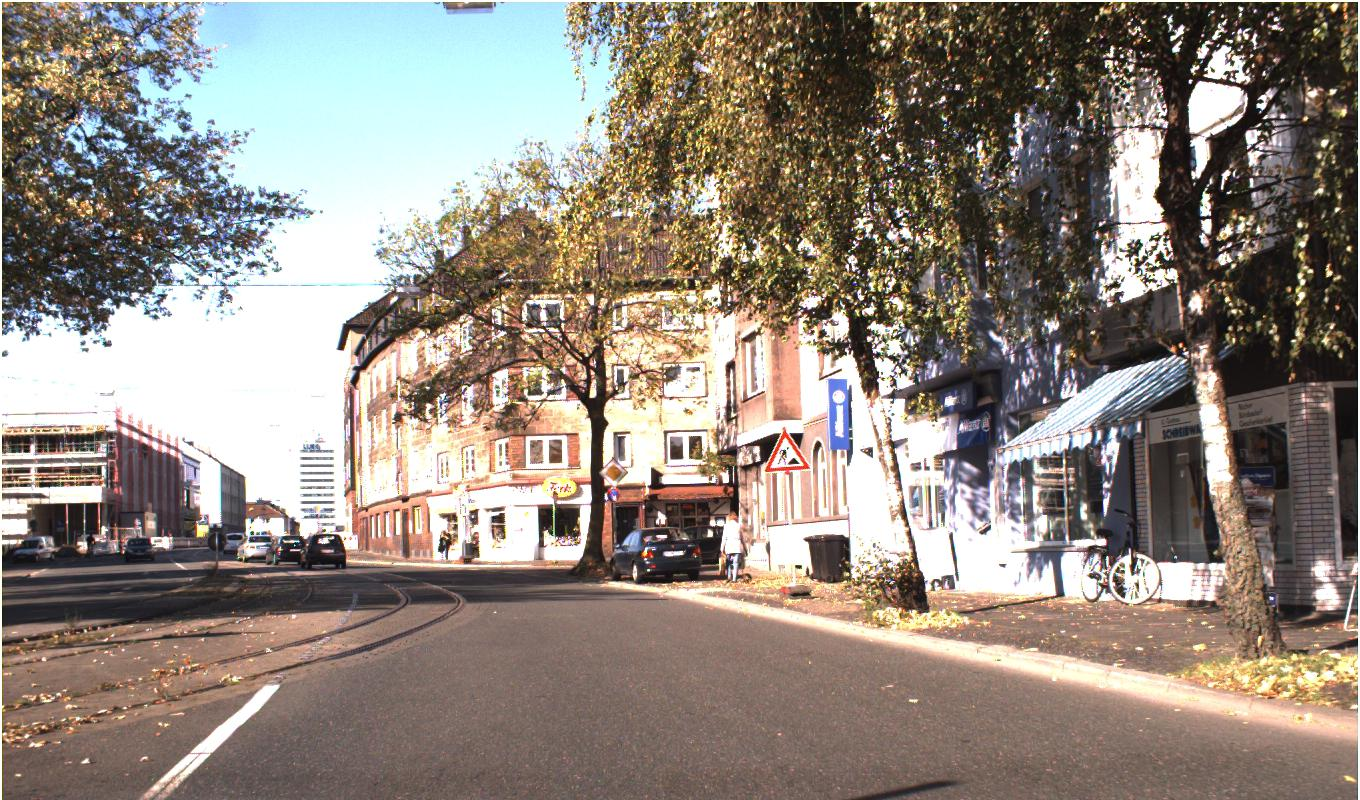danger: (763, 426, 812, 473)
sign: (597, 456, 628, 488)
